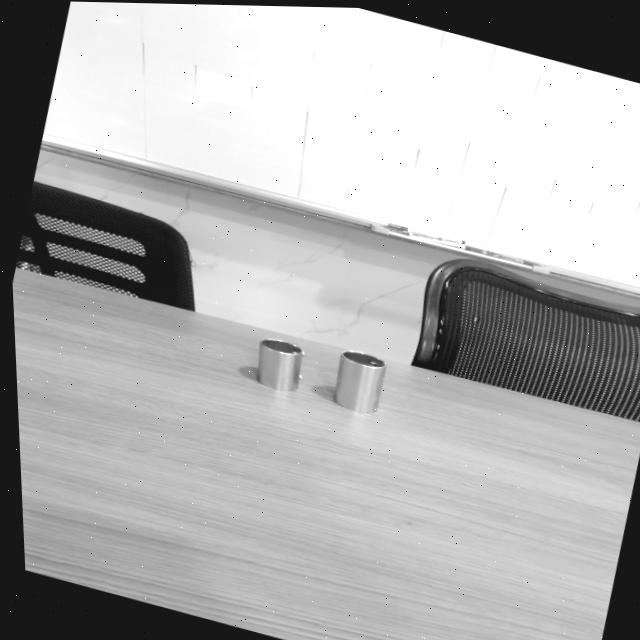Co_Lon: (330, 349, 387, 415)
Co_Nho: (255, 338, 305, 392)
